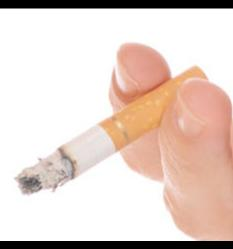Cigarette: (13, 65, 212, 196)
